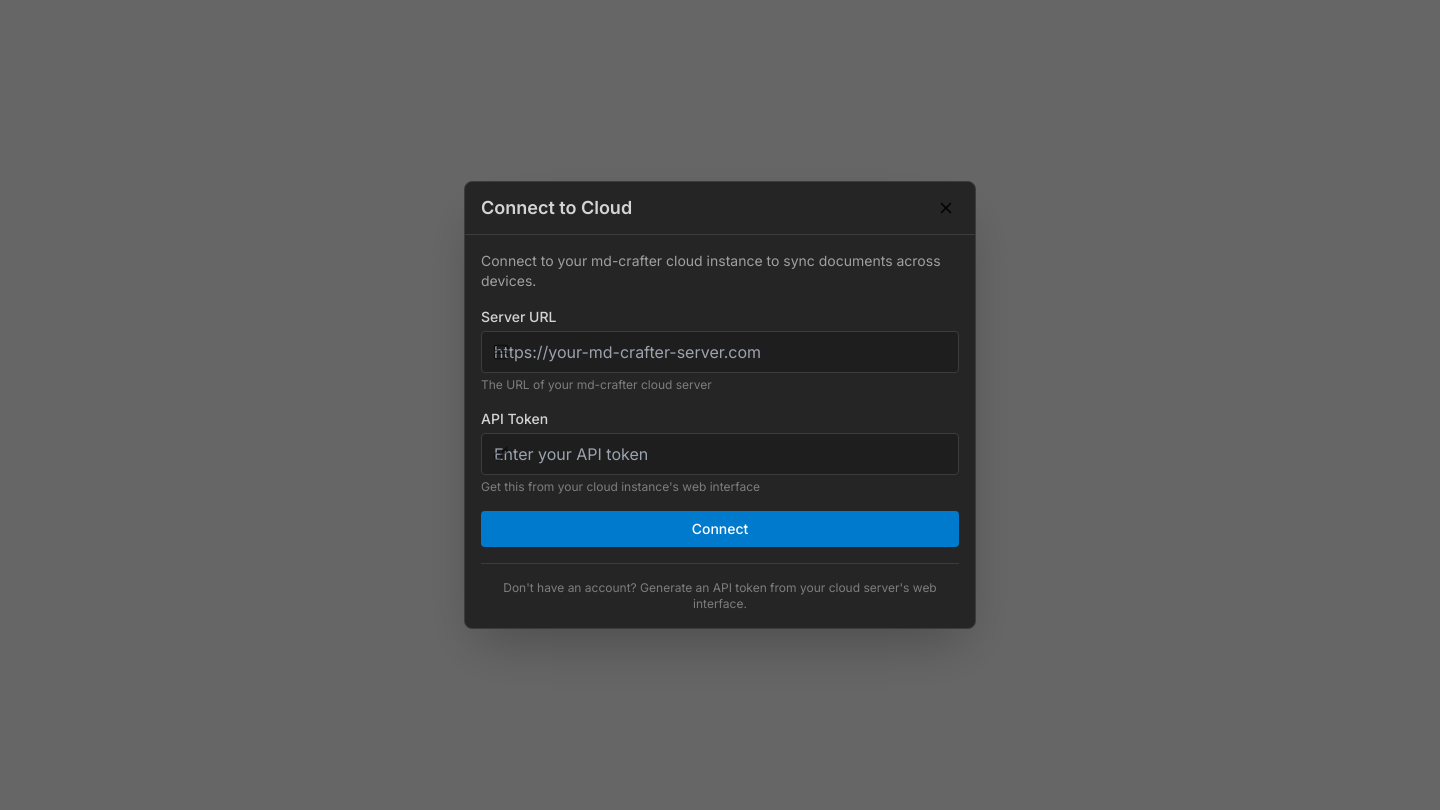
AuthModal › Desktop Mode - Server URL and Token › should require API token
Step 1. Type "https://example.com" into the field with placeholder "https://your-md-crafter-server.com" → (720, 352), box 481,331 -> 959,373
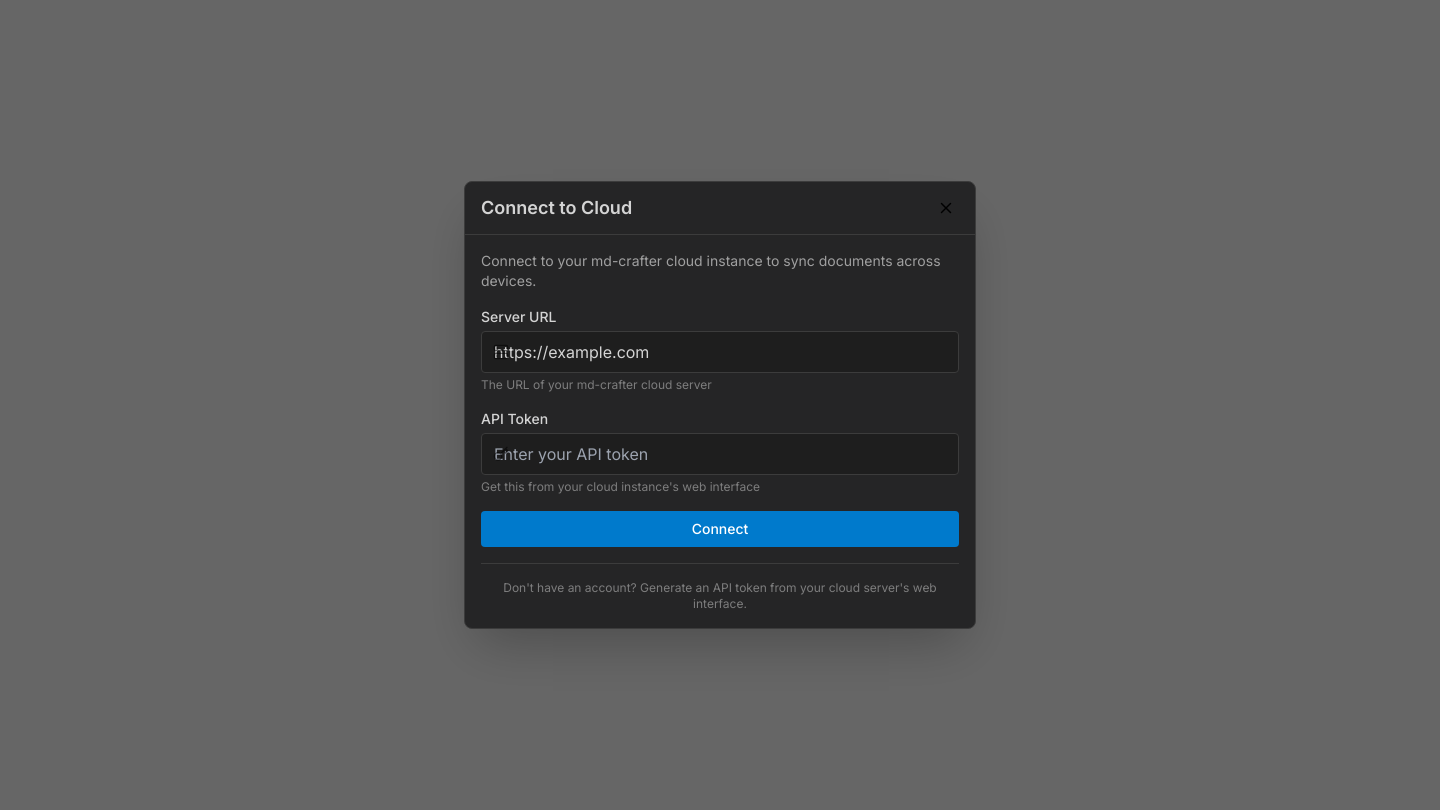
Step 2. Click the button "Connect" → click(720, 529), box 481,511 -> 959,547
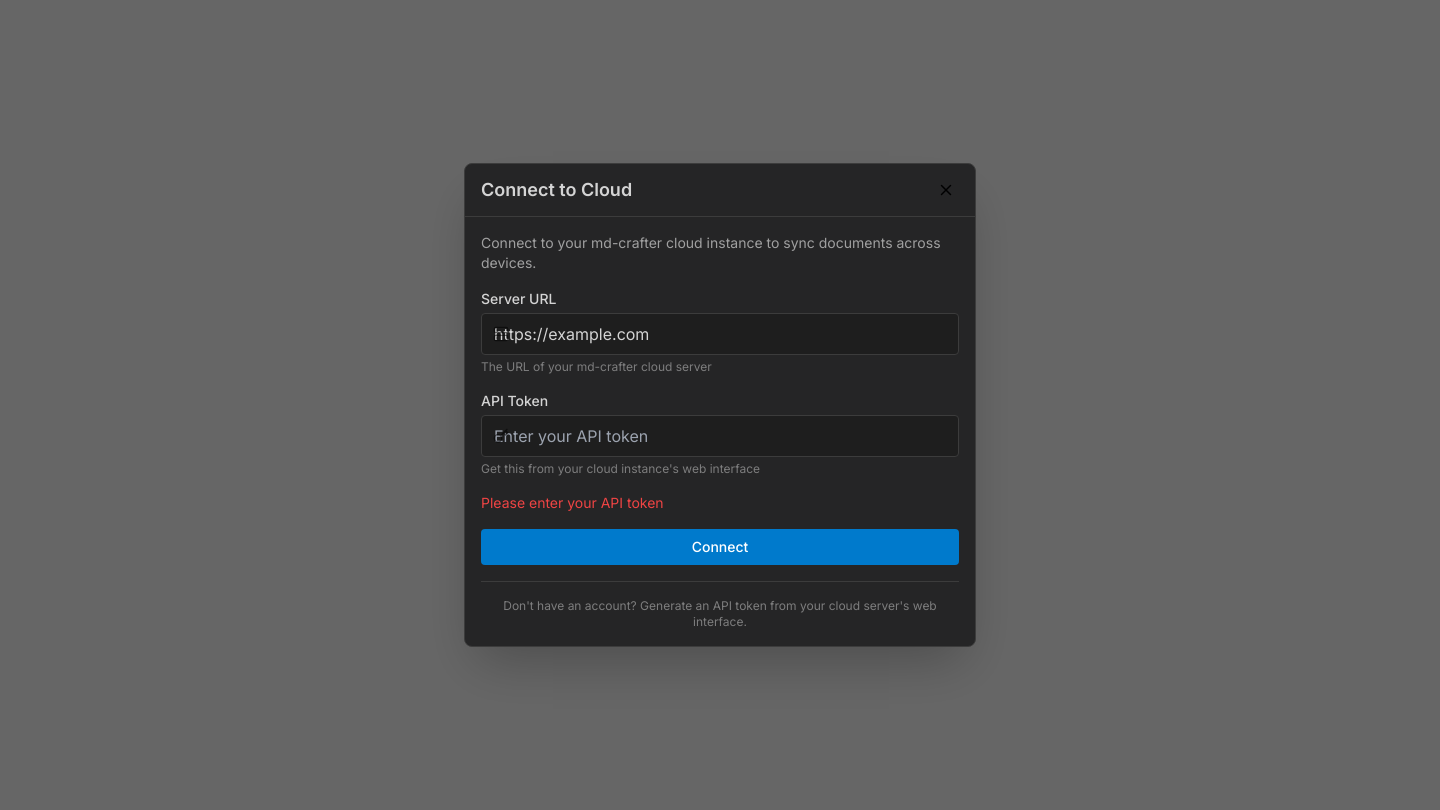
Check: the text "Please enter your API token" is shown, box 481,494 -> 664,511
